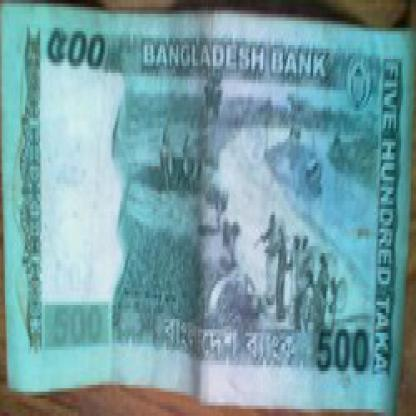500 taka: (308, 308, 379, 385), (45, 24, 113, 73)
